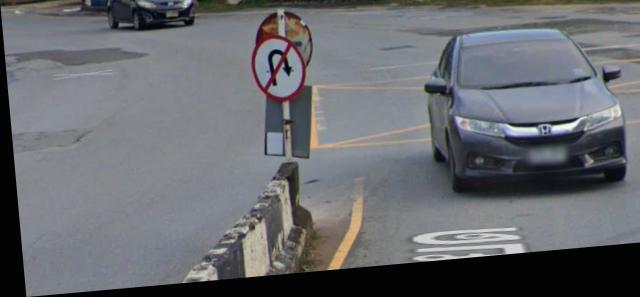not_u_turn_right: (243, 38, 310, 108)
